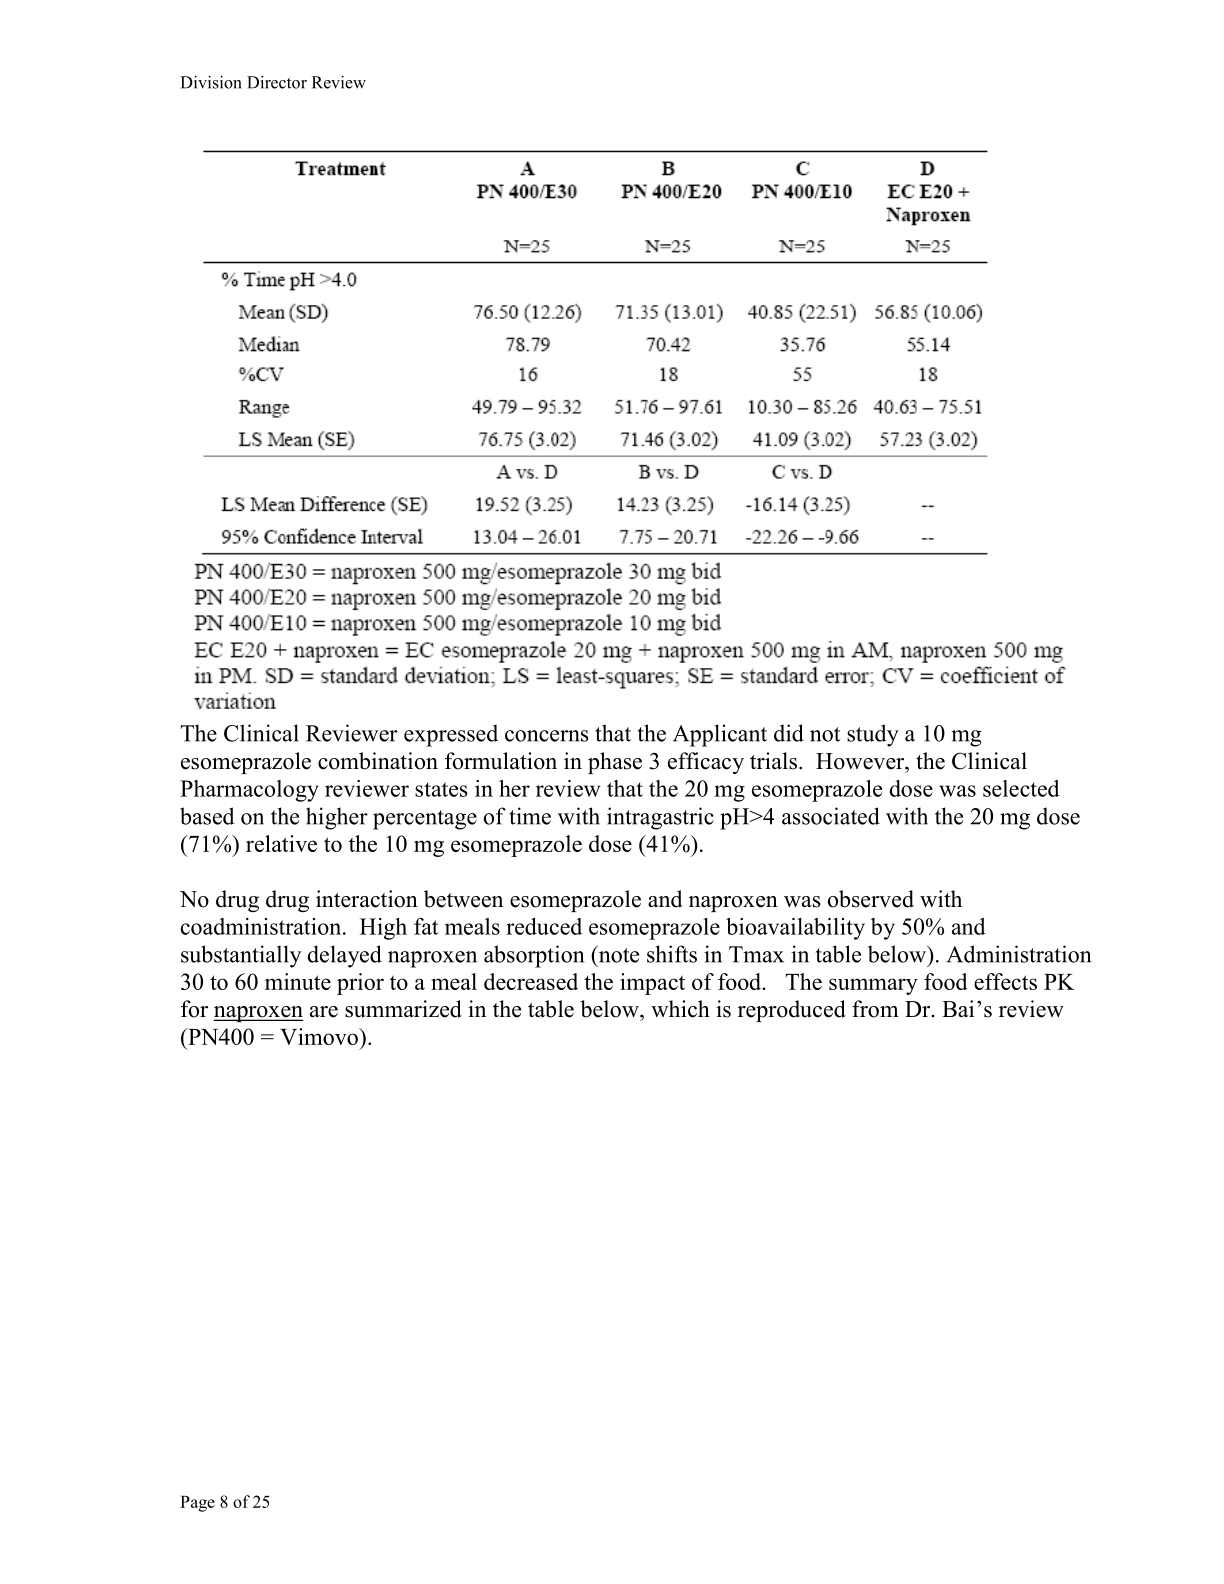partial_lined: (204, 147, 989, 554)
